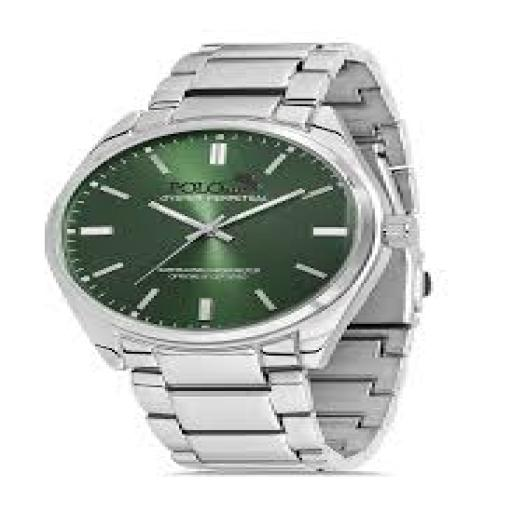KolSaati: (22, 20, 474, 500)
